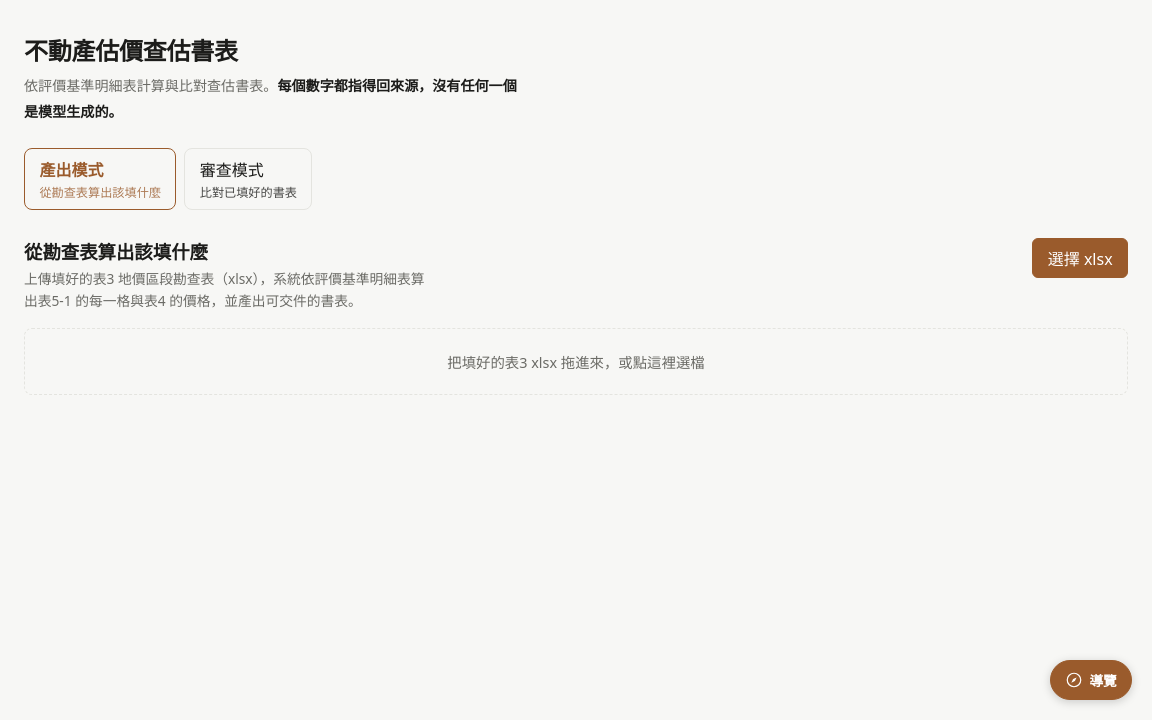
it: App › 切到審查模式後才出現 PDF 上傳區
What coordinates should you click on to do the following:
click the tab "審查模式 比對已填好的書表"
I would click on:
 (248, 179)
Its box is 184,148 -> 312,210.
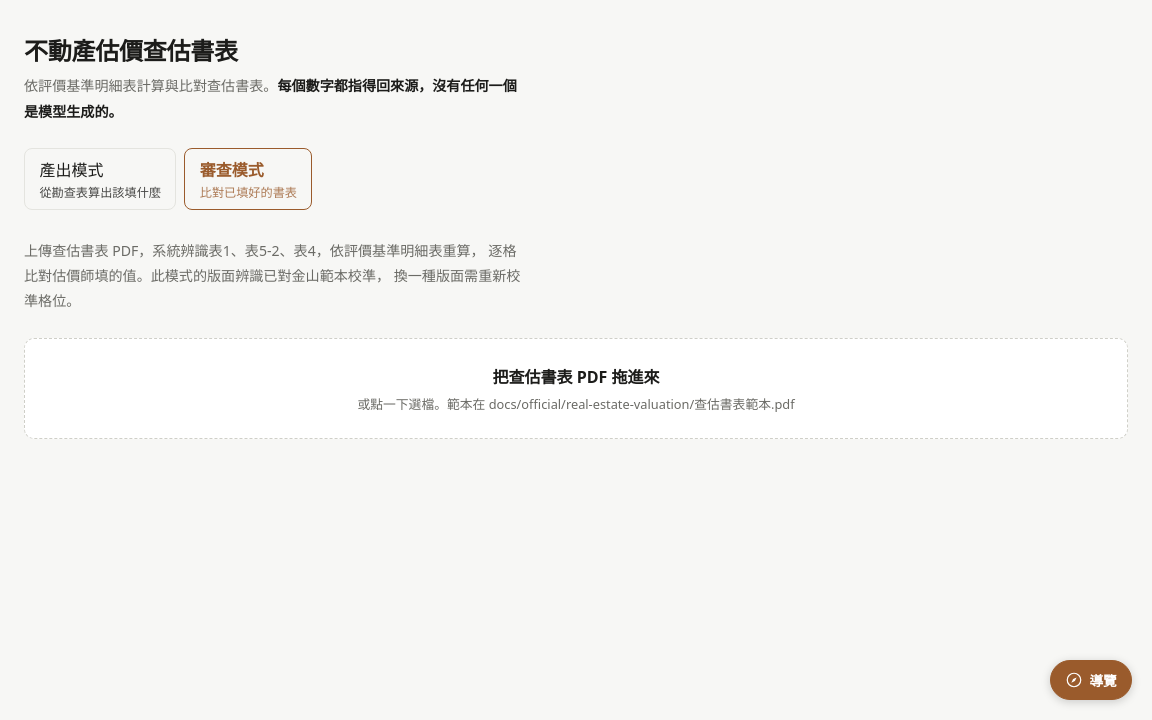
Check: the text "把查估書表 PDF 拖進來" is shown, box 492,364 -> 660,388
